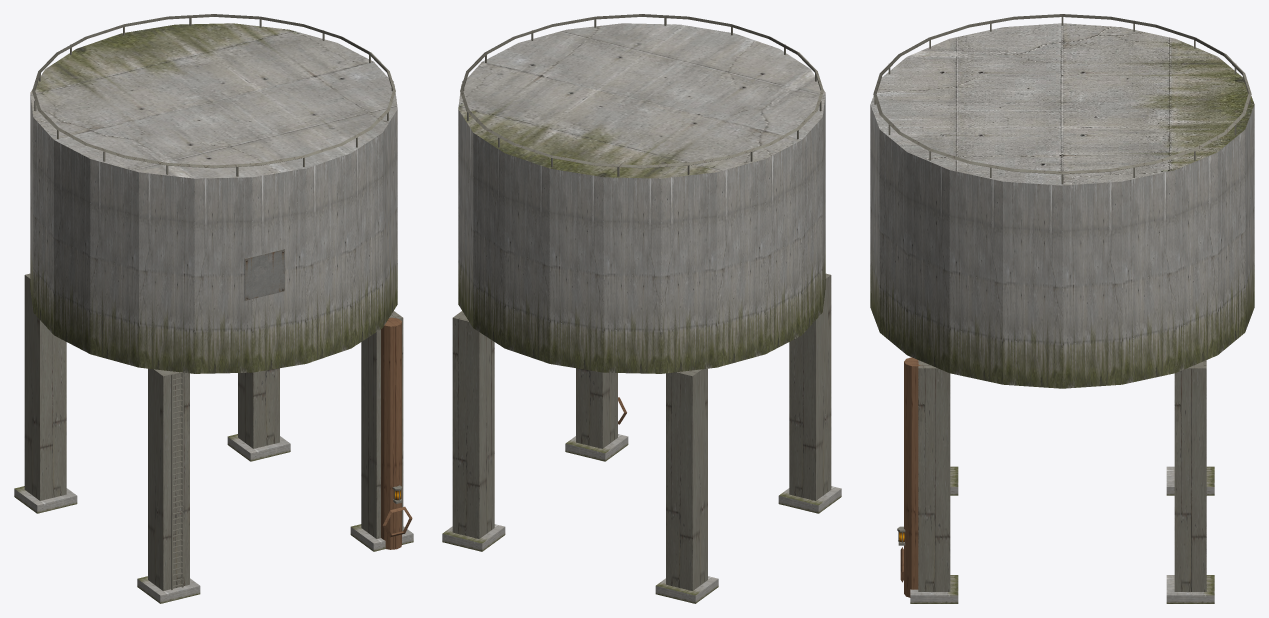
Rendered from deluge-water-tower.glb.
3 renders of one model, left to right at view 1: azimuth 30°, elevation 25°; view 2: azimuth 150°, elevation 25°; view 3: azimuth 270°, elevation 25°, orthographic. The views are drawn at different scales.
Parts seen in each view (by area): view 1: deluge-water-tower_concrete, deluge-water-tower_metal; view 2: deluge-water-tower_concrete, deluge-water-tower_metal; view 3: deluge-water-tower_concrete, deluge-water-tower_metal.
Boxes of the visible parts, left/top/right/bottom form: deluge-water-tower_concrete: left=14, top=23, right=413, bottom=603; deluge-water-tower_metal: left=24, top=14, right=412, bottom=590; deluge-water-tower_concrete: left=442, top=23, right=841, bottom=603; deluge-water-tower_metal: left=452, top=14, right=831, bottom=590; deluge-water-tower_concrete: left=870, top=23, right=1254, bottom=603; deluge-water-tower_metal: left=873, top=14, right=1251, bottom=597.
Size of the model in its own units: 24 by 30.84 by 24.
Materials: 3 (3 with a texture image).
